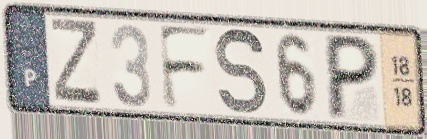3: (108, 21, 153, 109)
6: (274, 30, 320, 120)
F: (155, 22, 213, 113)
P: (324, 31, 381, 123)
S: (213, 25, 270, 119)
Z: (49, 16, 103, 109)
